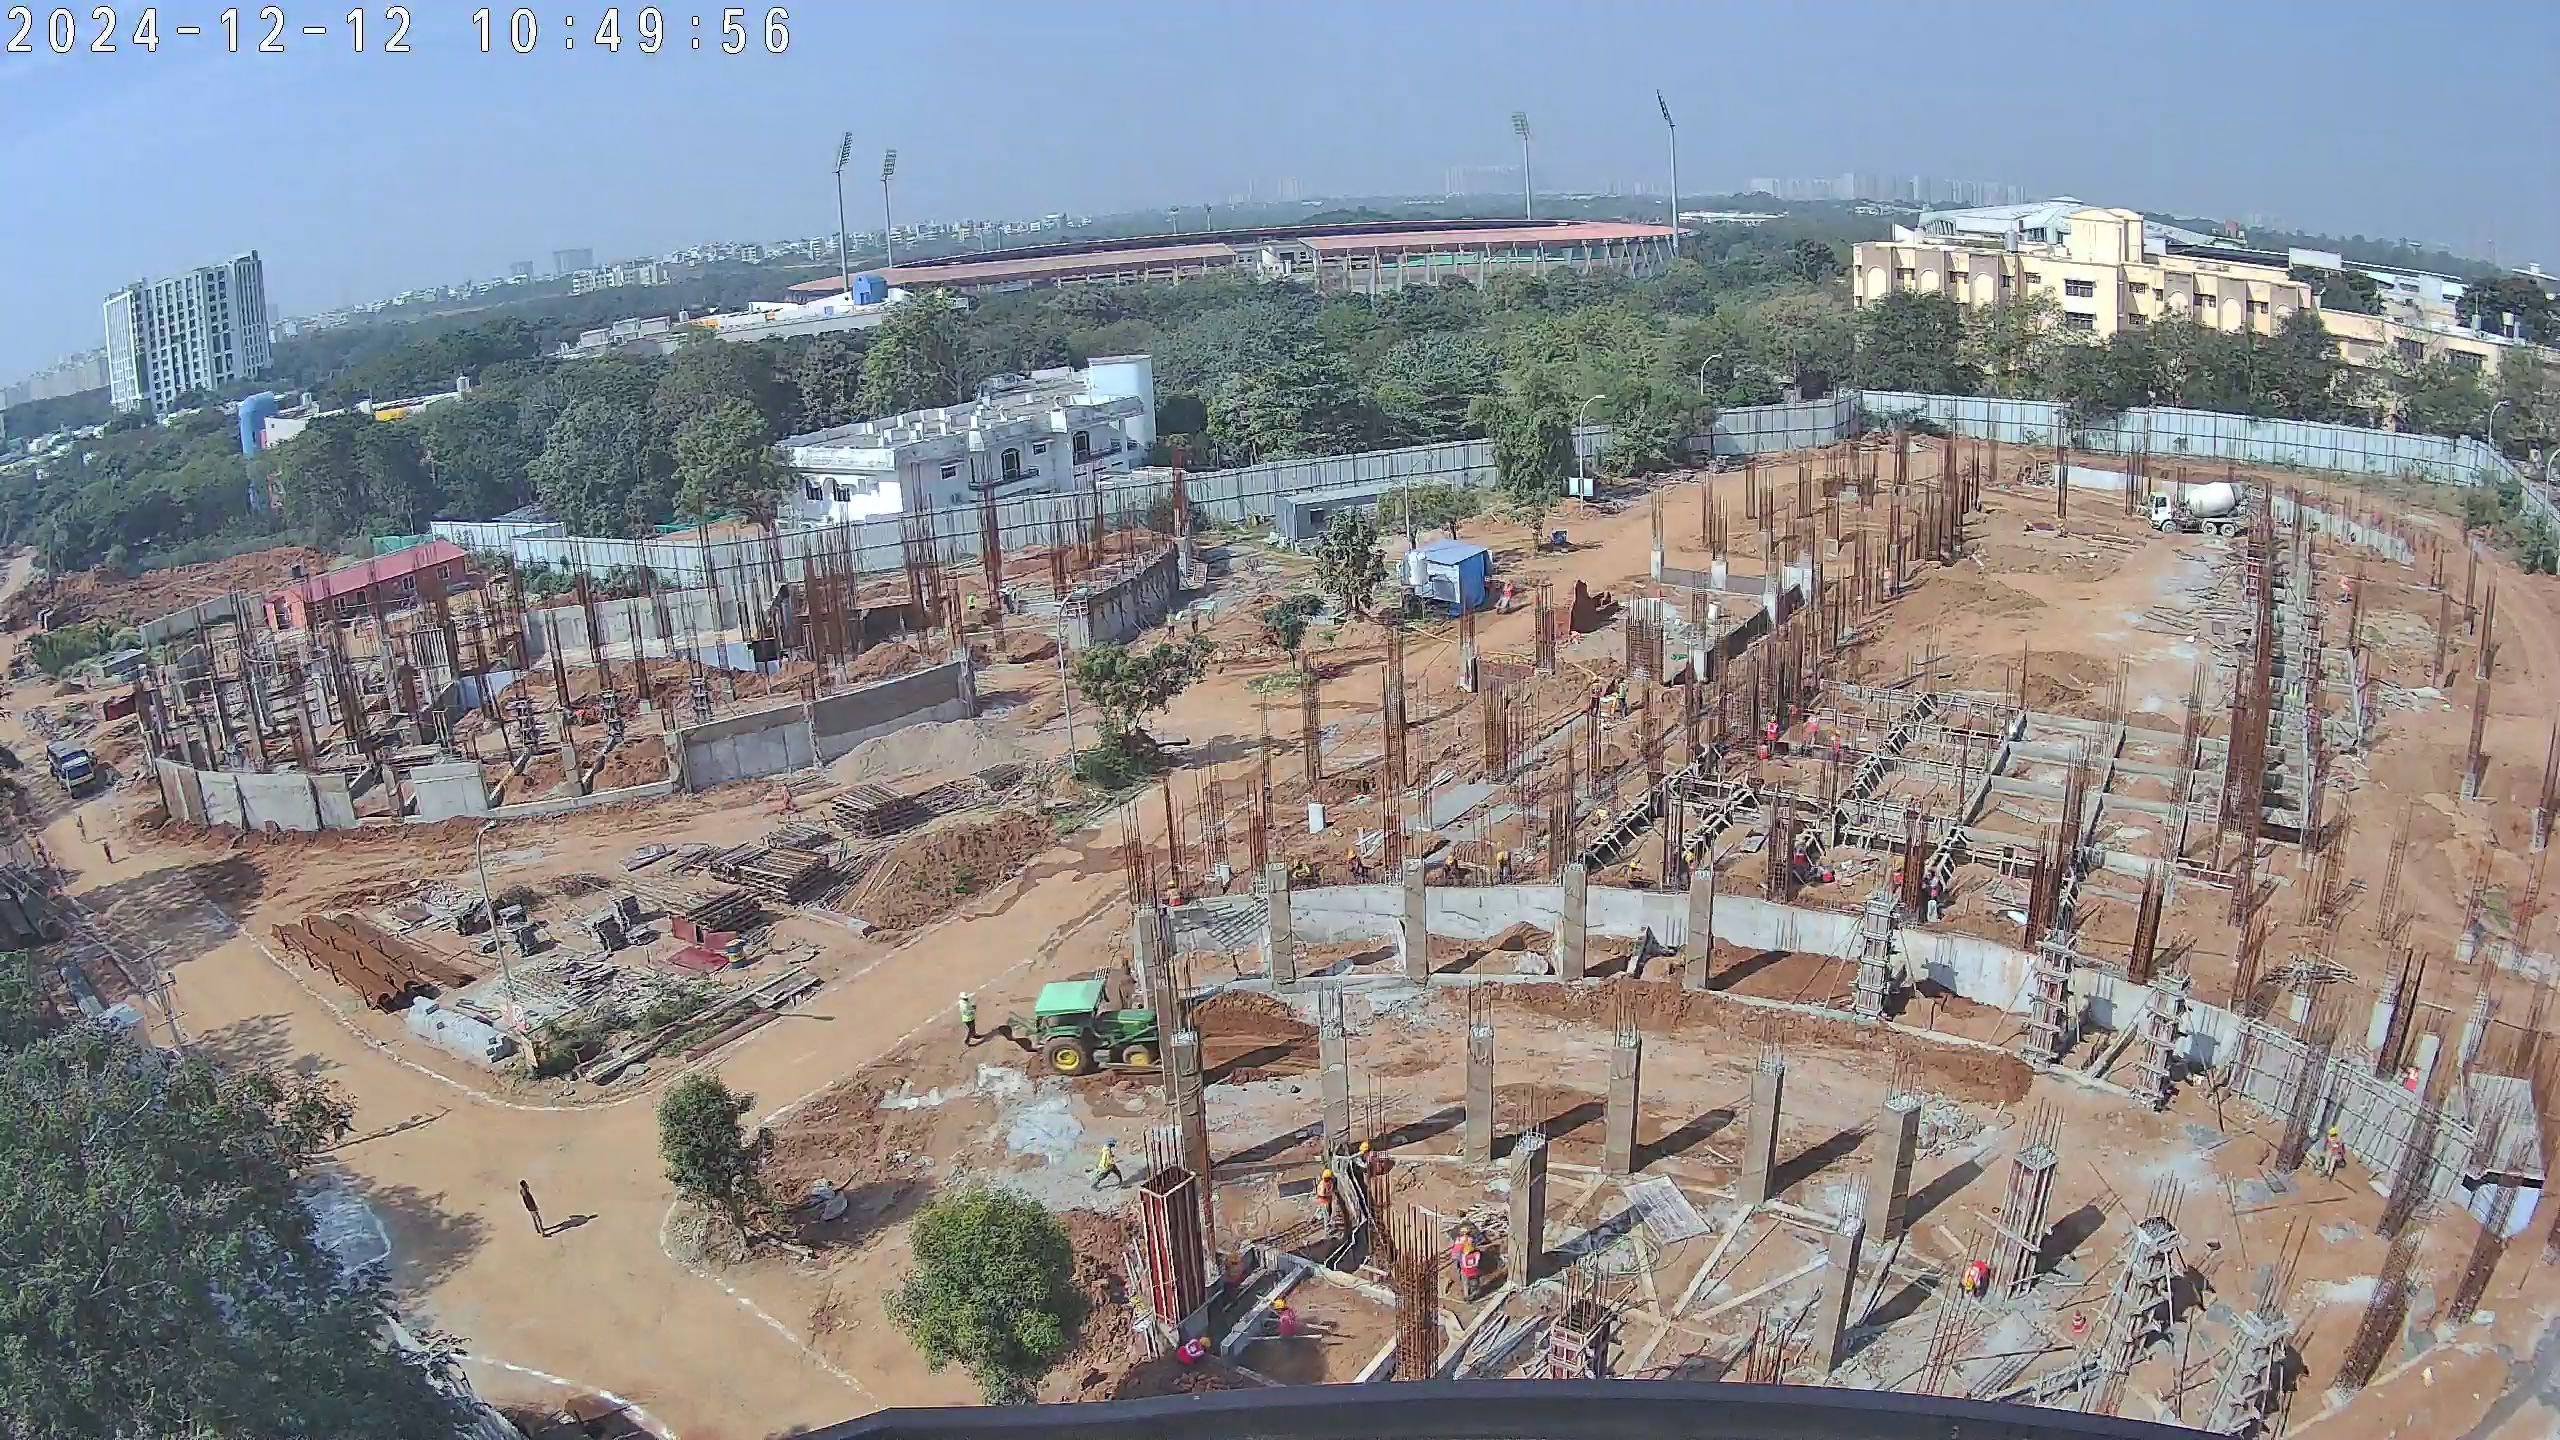bulldozer: (993, 979, 1176, 1075)
truck: (2145, 477, 2254, 543), (45, 741, 106, 802)
worker: (508, 1175, 556, 1247), (2315, 1122, 2351, 1193), (1085, 1135, 1125, 1197), (1310, 1170, 1343, 1239), (1268, 1293, 1304, 1356), (952, 989, 987, 1052), (1172, 1335, 1222, 1374), (1449, 1224, 1481, 1284), (1459, 1239, 1489, 1301), (1958, 1256, 1993, 1304), (1354, 1140, 1388, 1189), (1786, 827, 1817, 877), (1678, 845, 1713, 886), (2400, 1053, 2431, 1099), (1757, 708, 1783, 761), (1822, 725, 1851, 772), (1494, 574, 1523, 619), (1886, 856, 1912, 899), (1801, 705, 1822, 756), (1609, 674, 1633, 716), (1159, 878, 1187, 914), (772, 784, 799, 819), (1619, 859, 1651, 887), (1583, 674, 1603, 718), (2336, 570, 2355, 613), (69, 812, 92, 847), (1186, 604, 1207, 638), (98, 837, 119, 870), (1204, 598, 1221, 627), (1165, 609, 1179, 643), (962, 591, 981, 616)
